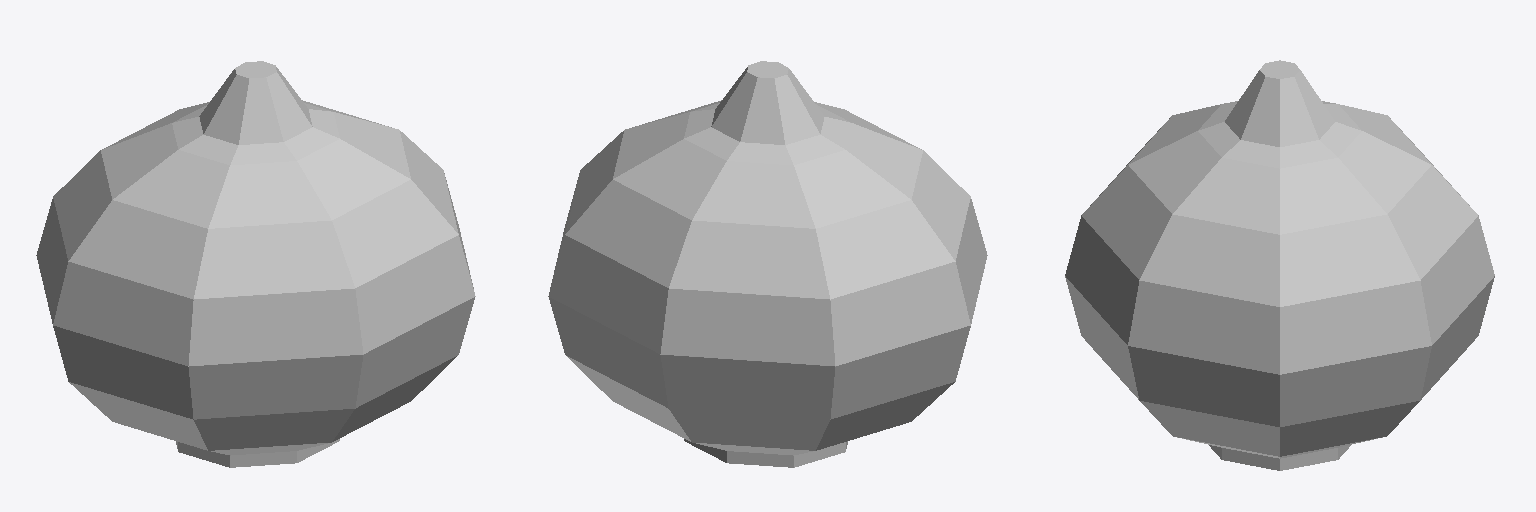
Rendered from Onion.obj.
3 renders of one model, left to right at view 1: azimuth 30°, elevation 25°; view 2: azimuth 150°, elevation 25°; view 3: azimuth 270°, elevation 25°, orthographic.
Visible parts, largest first — view 1: pSphere1; view 2: pSphere1; view 3: pSphere1.
Part boxes in pixels (x1,y1,x2,y2): pSphere1: (36, 61, 475, 467); pSphere1: (548, 61, 987, 467); pSphere1: (1065, 60, 1494, 470).
Bounding box in the file's own units: 4.02 × 3.52 × 3.69.